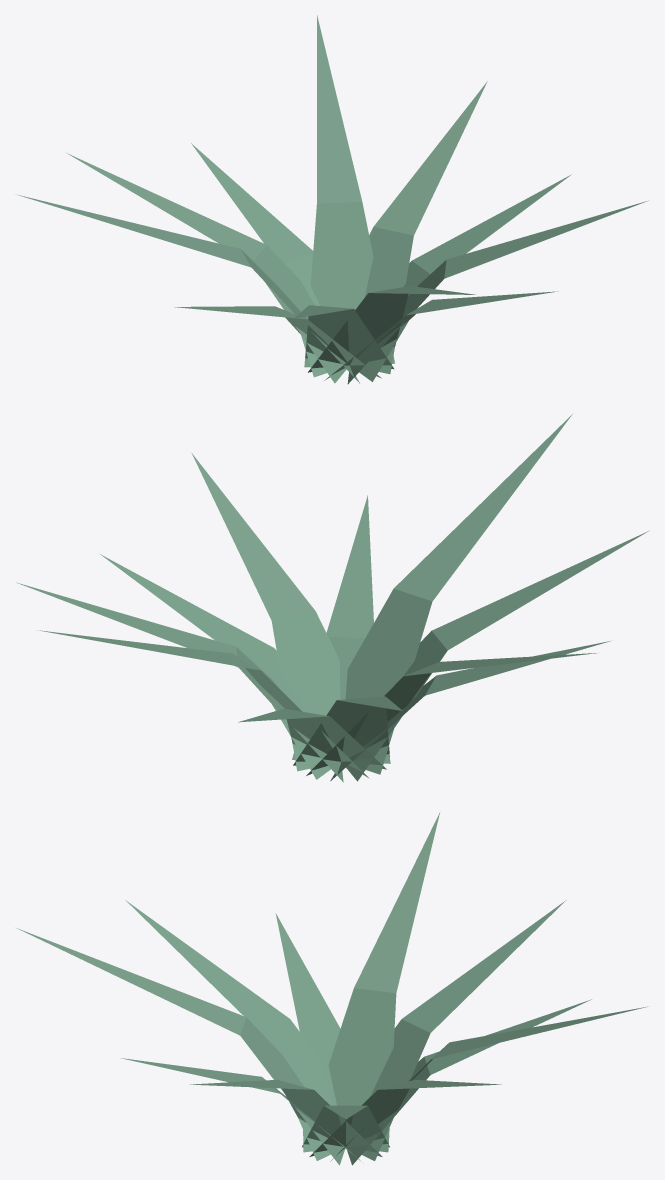
Rendered from agave.glb.
3 renders of one model, top to bottom at view 1: azimuth 30°, elevation 25°; view 2: azimuth 150°, elevation 25°; view 3: azimuth 270°, elevation 25°, orthographic. The views are drawn at different scales.
Visible parts, largest first — view 1: agave; view 2: agave; view 3: agave.
Part boxes in pixels (x1,y1,x2,y2): agave: (17, 15, 648, 384); agave: (16, 414, 649, 782); agave: (16, 812, 647, 1165).
Size of the model in its own units: 1.81 by 0.6975 by 2.01.
Materials: 1 (1 with a texture image).
